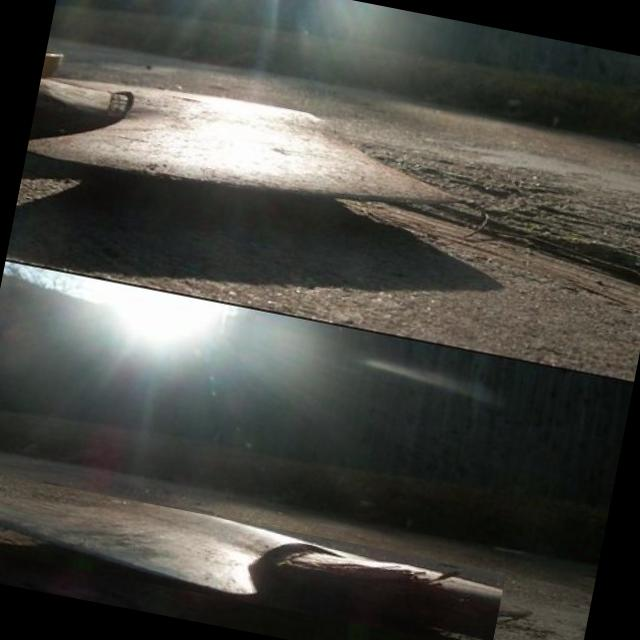Axe: (0, 498, 502, 640), (27, 52, 437, 199)
